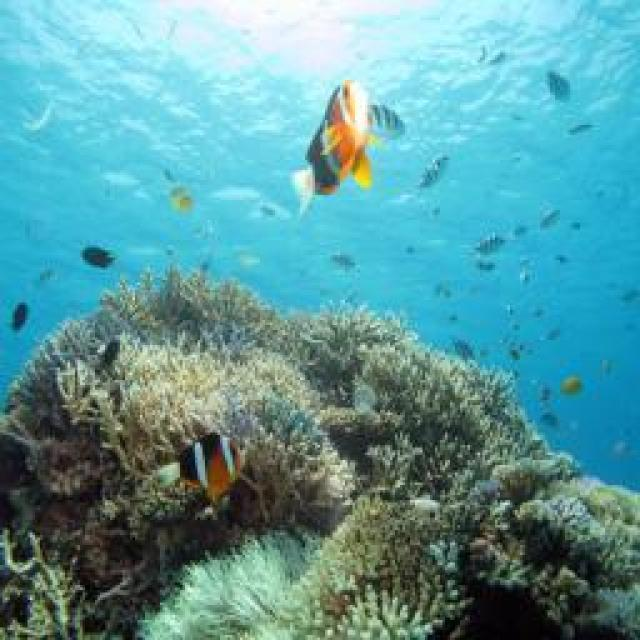fish: (293, 79, 407, 211), (153, 430, 248, 507)
reefs: (0, 254, 638, 638)
